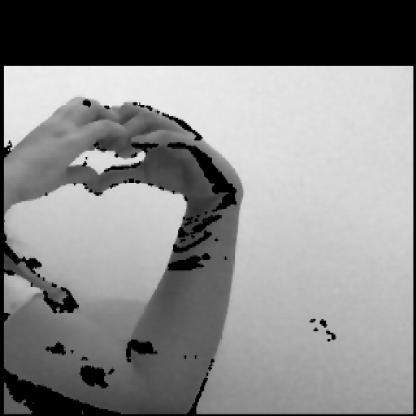heart: (15, 94, 244, 227)
